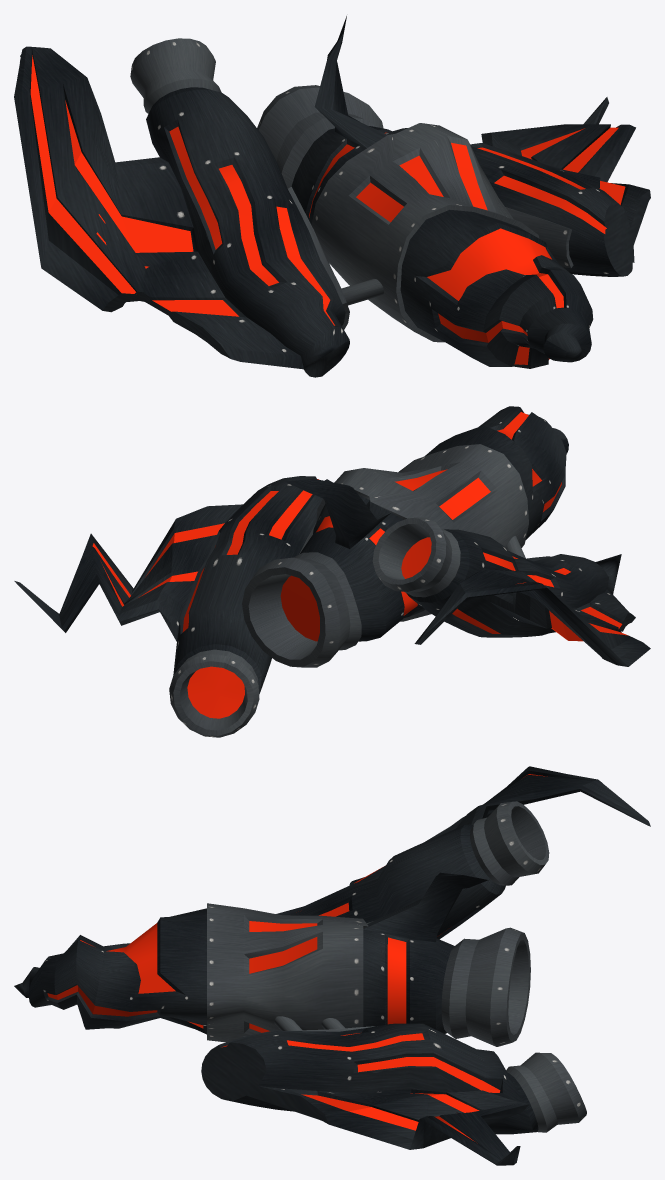
Rendered from Bloaty_20.fbx.
3 views of the same model, one above another, from view 1: azimuth 30°, elevation 25°; view 2: azimuth 150°, elevation 25°; view 3: azimuth 270°, elevation 25° (orthographic). The views are drawn at different scales.
Parts seen in each view (by area): view 1: Boaty_20; view 2: Boaty_20; view 3: Boaty_20.
Part boxes in pixels (<box>): Boaty_20: <box>14,16,650,377</box>; Boaty_20: <box>14,406,650,737</box>; Boaty_20: <box>14,766,650,1165</box>.
Size of the model in its own units: 41.17 by 16.83 by 41.21.
